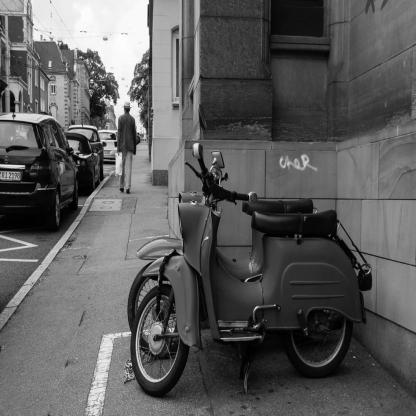Car: (0, 113, 80, 231), (63, 132, 100, 190), (69, 121, 105, 178), (98, 129, 118, 161)
